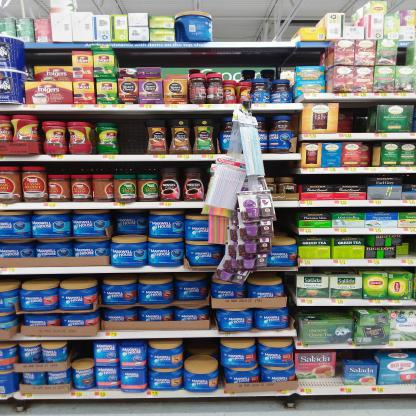Void: (121, 52, 319, 63), (217, 15, 294, 39), (118, 123, 150, 159), (344, 105, 373, 131), (181, 340, 209, 360), (277, 209, 295, 237), (304, 308, 346, 320), (26, 50, 66, 62), (65, 340, 90, 359), (344, 351, 370, 362), (267, 163, 291, 174), (398, 42, 410, 62), (301, 12, 317, 24)
